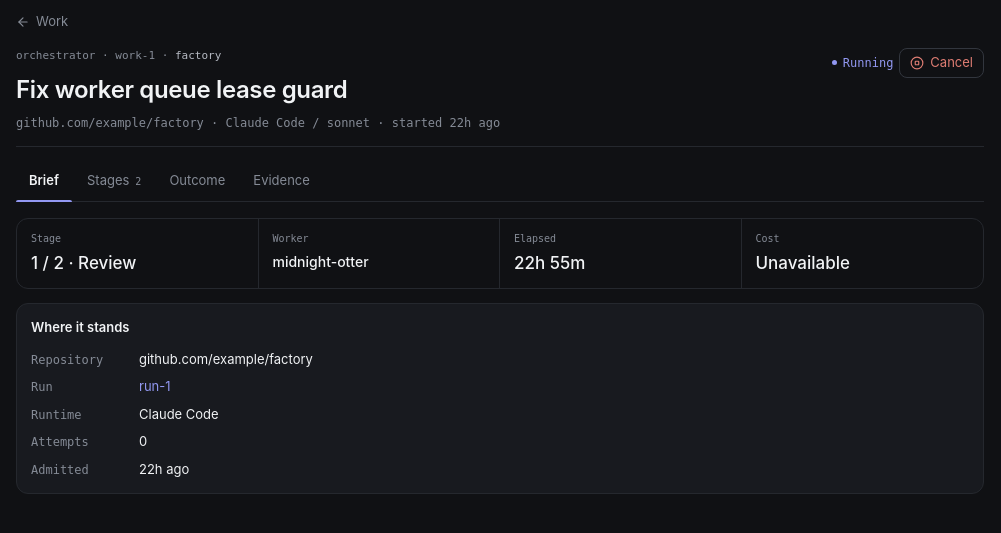
Scenario: Work detail › keeps a code-stage and agent-reported check for the same command apart across a poll
This screenshot has width=1001, height=533.
Click the tab "Outcome": (197, 181) [156, 161, 238, 200]
Wait 4000 ms
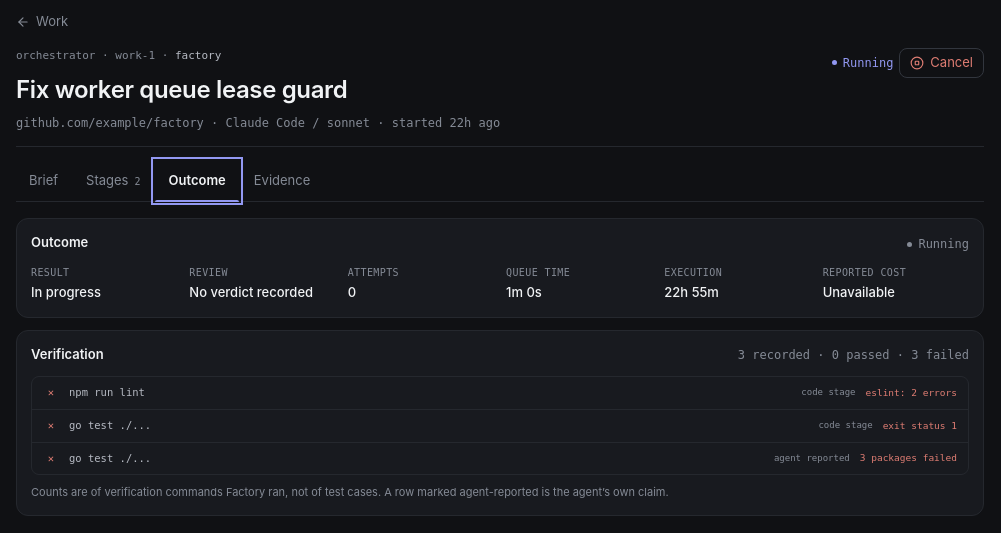
Now the text "npm run lint" is shown, box [69, 386, 145, 398]
